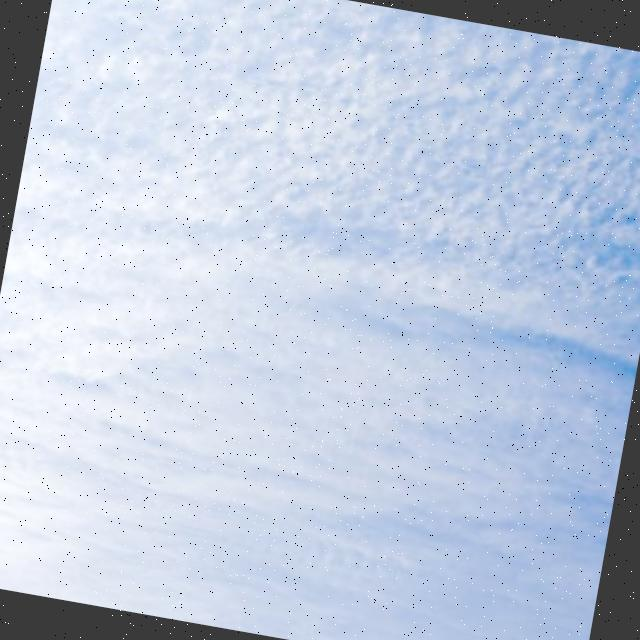Cc: (1, 1, 640, 607)
